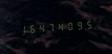five: (87, 17, 96, 31)
four: (57, 19, 66, 33), (37, 21, 46, 34)
nine: (77, 18, 86, 31)
one: (17, 22, 26, 36)
seven: (47, 20, 56, 33)
six: (27, 22, 36, 35)
zero: (67, 19, 76, 32)
